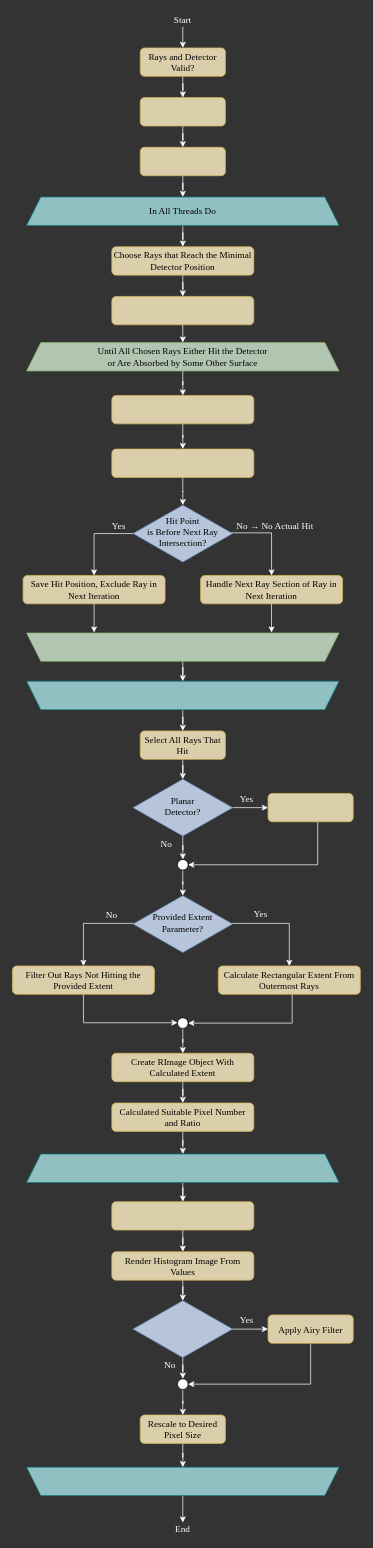
The diagram is 373 pixels wide and 1548 high, and some of its shapes have lost their labels. Here are the shapes that lost their labels. From the top down, the centre of each, then its label:
At (x=182, y=111): "Choose Rays for Selected Source".
At (x=182, y=161): "Create Threads and Assign Rays".
At (x=182, y=310): "Choose Ray Sections That Are Guaranteed to Be Before the Detector".
At (x=182, y=409): "Exclude Absorbed Rays".
At (x=182, y=462): "Find Hit With Current Ray Sections".
At (x=310, y=807): "Map Coordinates".
At (x=182, y=1168): "With One Thread per X, Y, Z, Luminance, Power Image".
At (x=182, y=1215): "Calculate Image Values".
At (x=182, y=1329): "Resolution Limit Option?".
